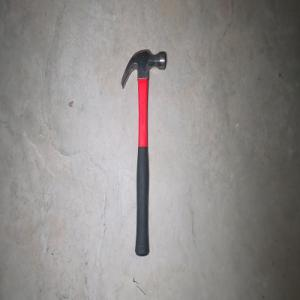Hammer: (120, 48, 166, 257)
